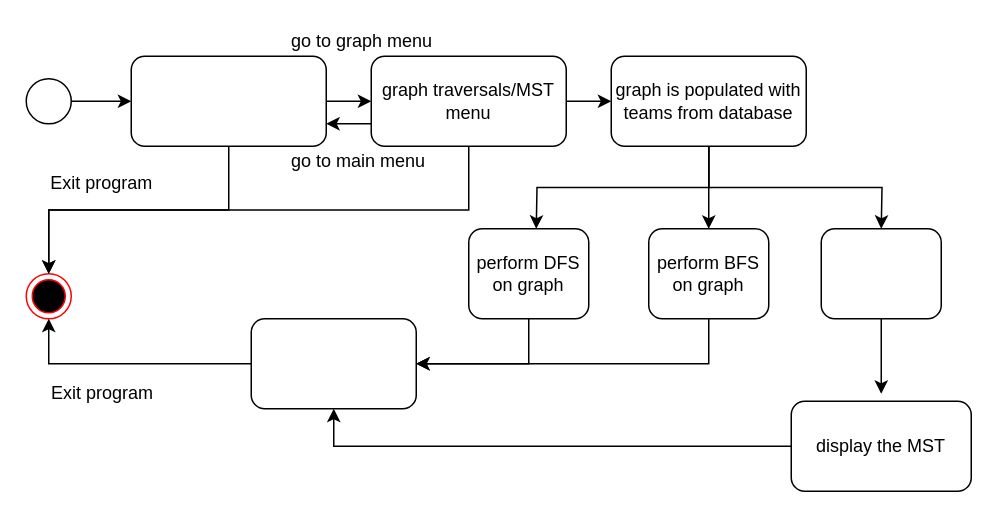
This 998x518 diagram has some shape labels left out. Here are the shapes that lost their labels. From the top down, the centre of each, then its label:
point 228,100: main menu
point 880,273: find the MST of graph using Kruskal’s algorithm
point 333,363: display the traversal and the distance traveled along traversal
